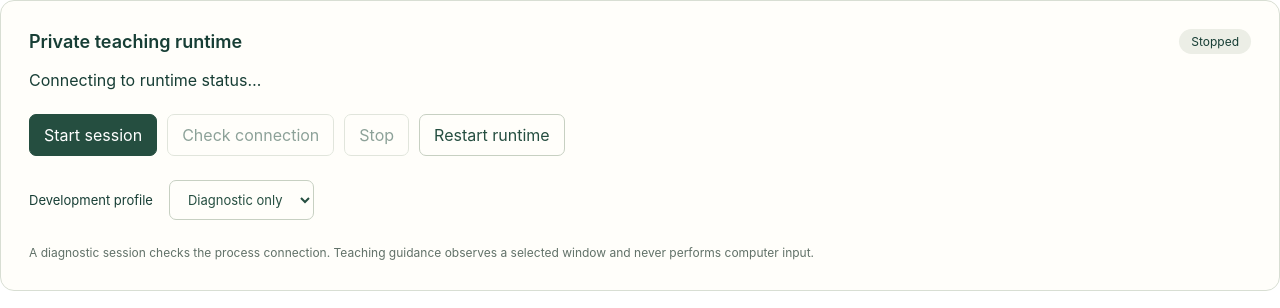
Scenario: starts and stops an explicit preview session
This screenshot has width=1280, height=308.
Click the button "Start session": (93, 135) [29, 114, 157, 156]
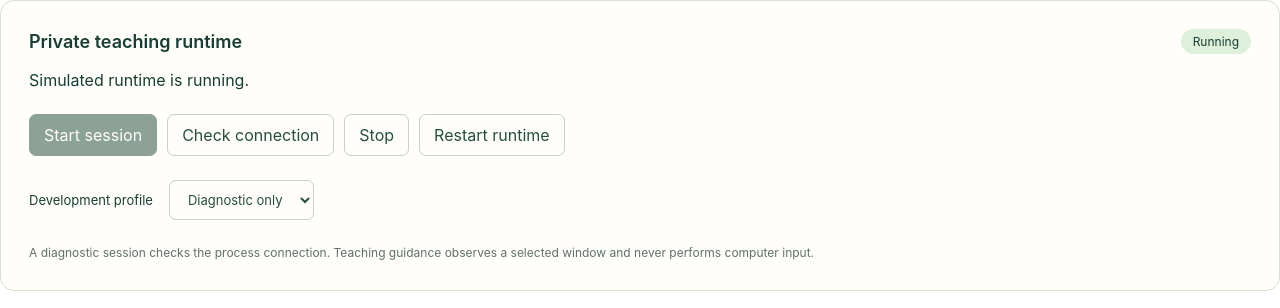
Check: the message shows "running", box [29, 70, 249, 90]
Click the button "Stop": (377, 135) [344, 114, 409, 156]
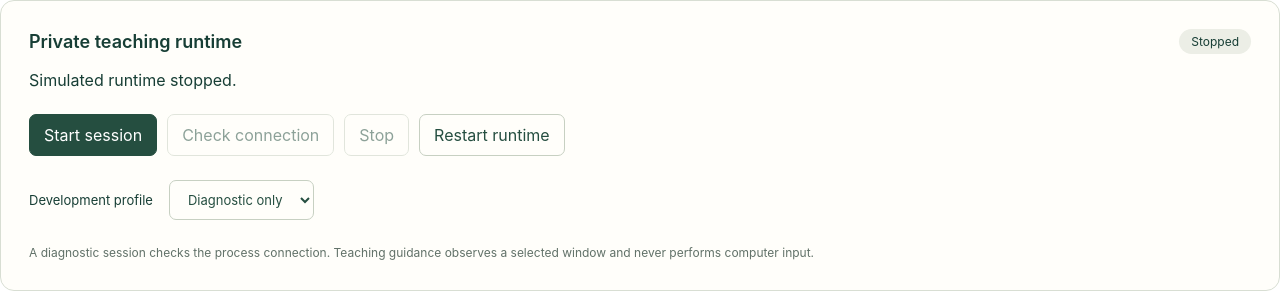
Check: the message shows "stopped", box [29, 70, 236, 90]
